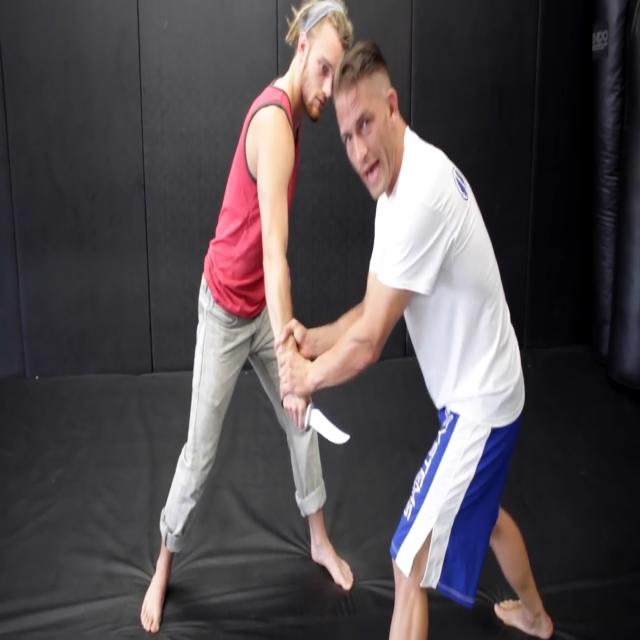knife: (307, 396, 357, 451)
